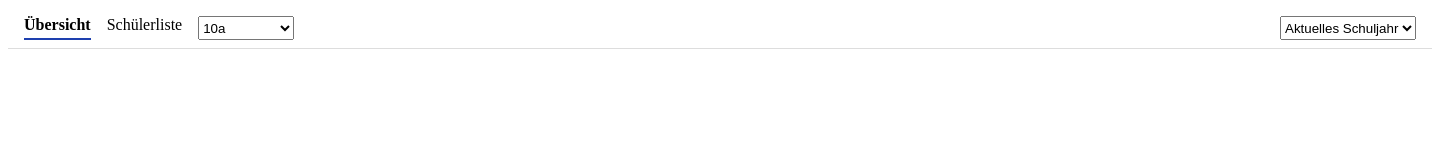
Test: Navigation › clears the klasse URL param when the Schuljahr selection changes
Expected: the dropdown named "Klasse" shows "10a", 198,16 -> 294,40
Select "2024/2025" in the dropdown named "Schuljahr": (1348, 28) 1280,16 -> 1416,40
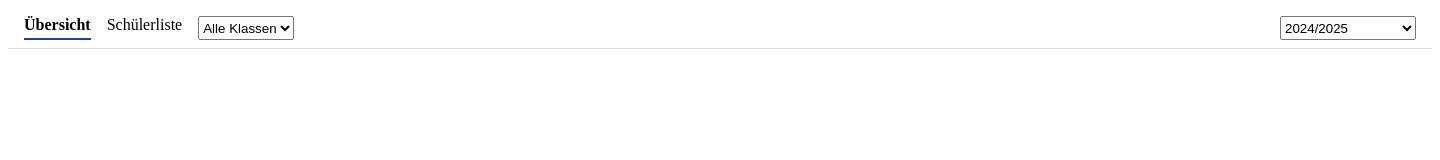
Result: the dropdown named "Klasse" shows "Alle Klassen" at 198,16 -> 294,40
